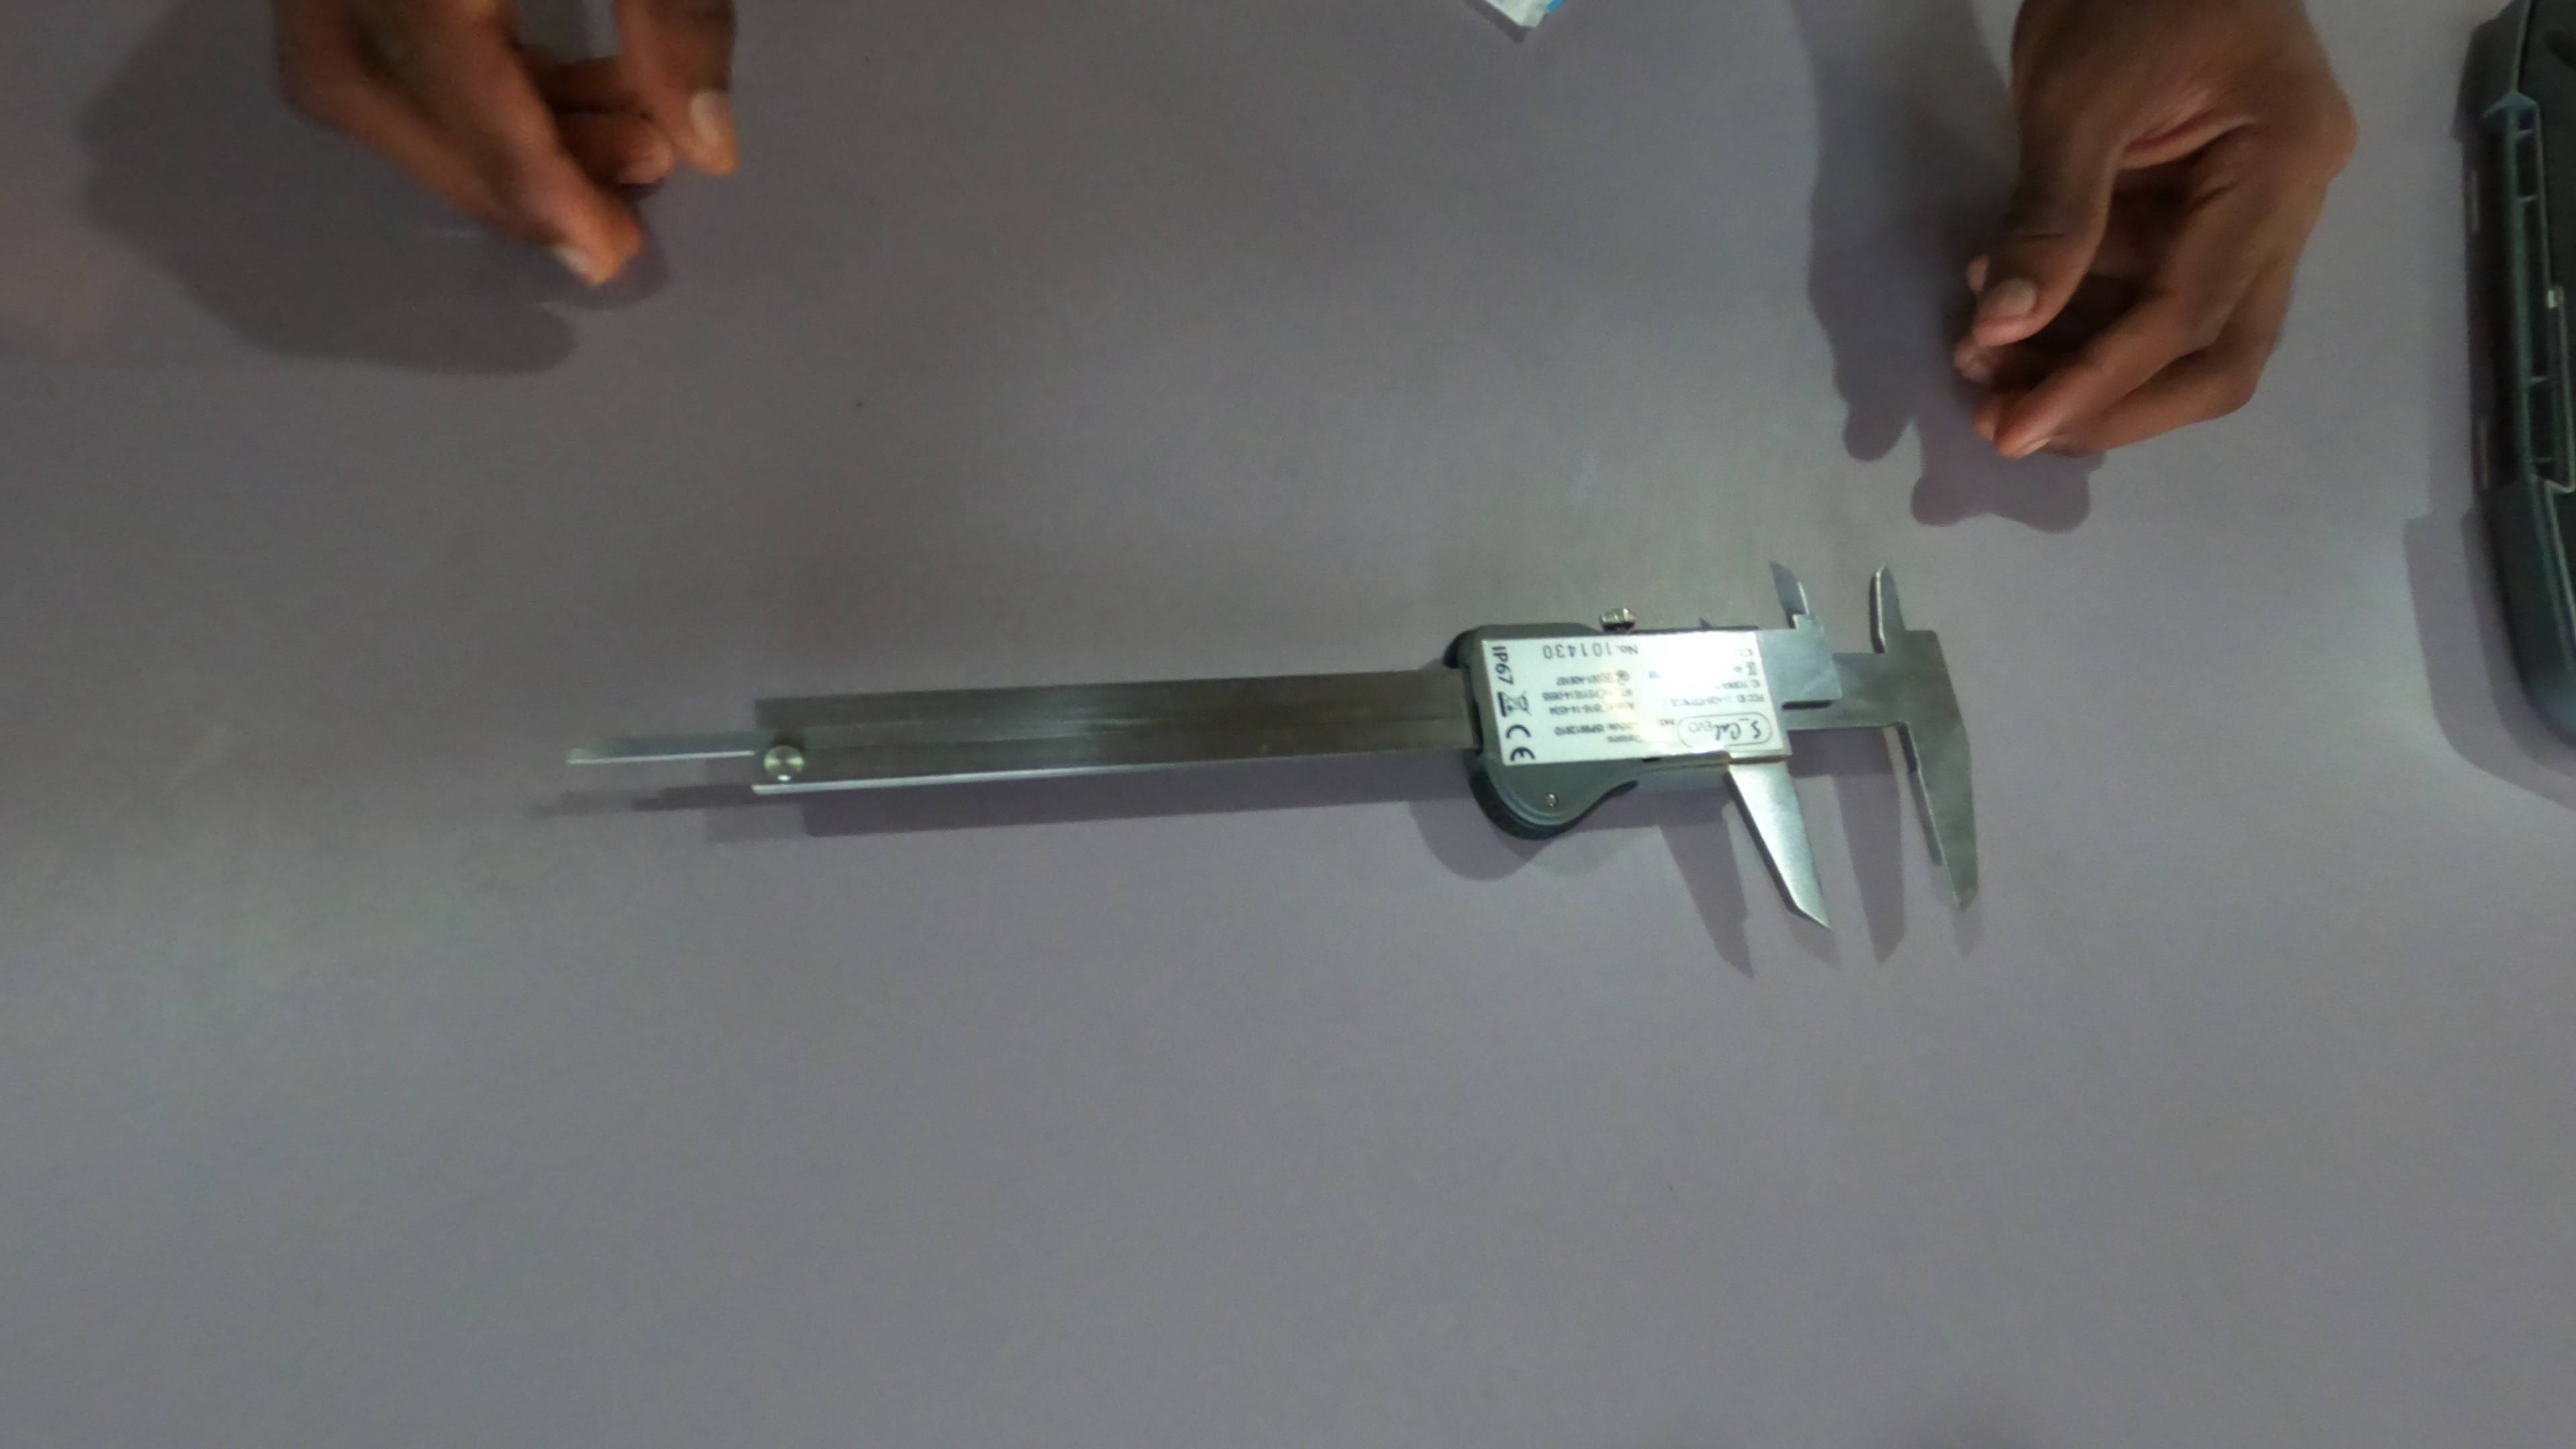vernier_caliper: (563, 566, 1978, 918)
